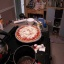pizza: (16, 25, 41, 42)
